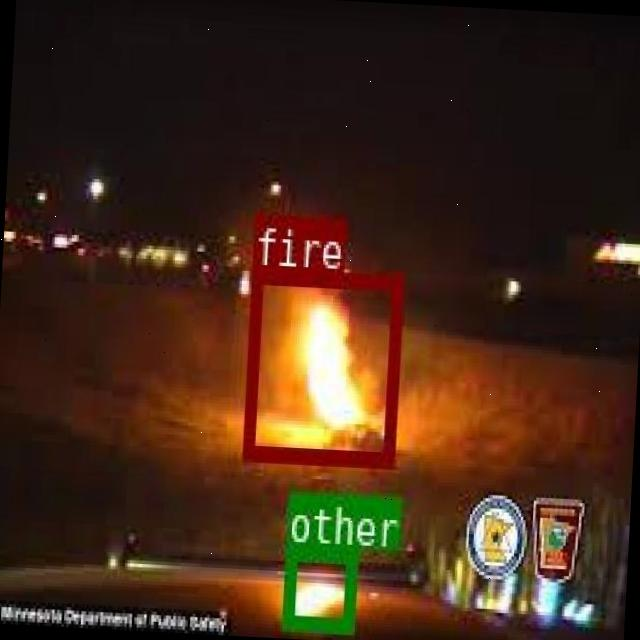fire: (242, 265, 402, 465)
